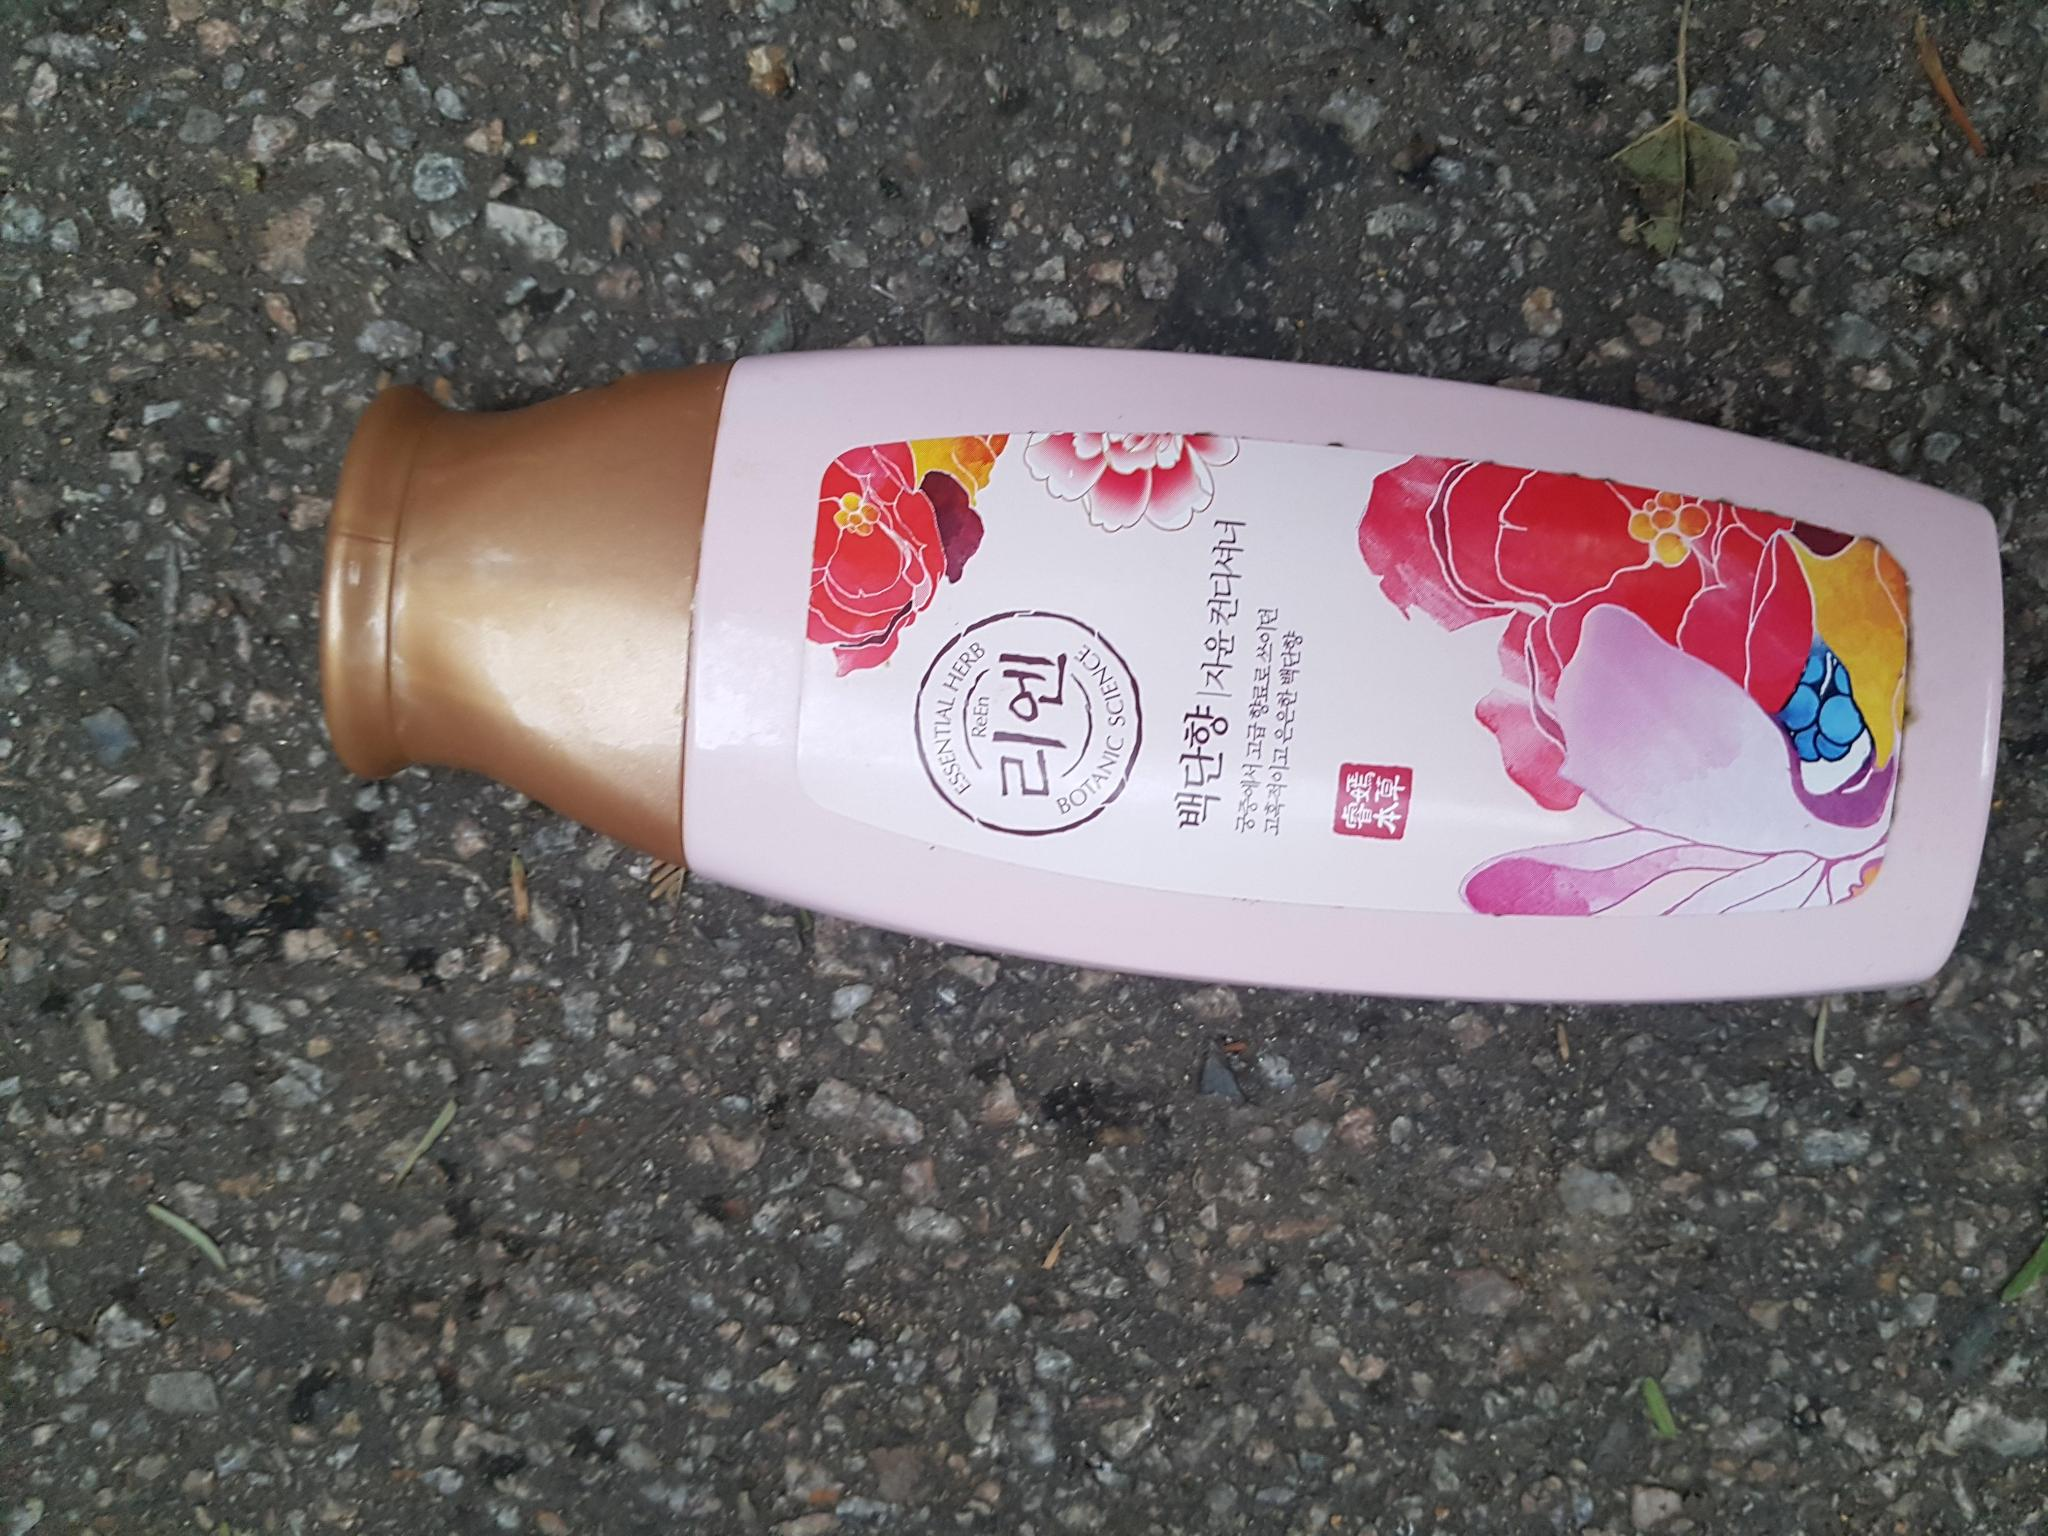bottle: (308, 336, 2011, 1004)
